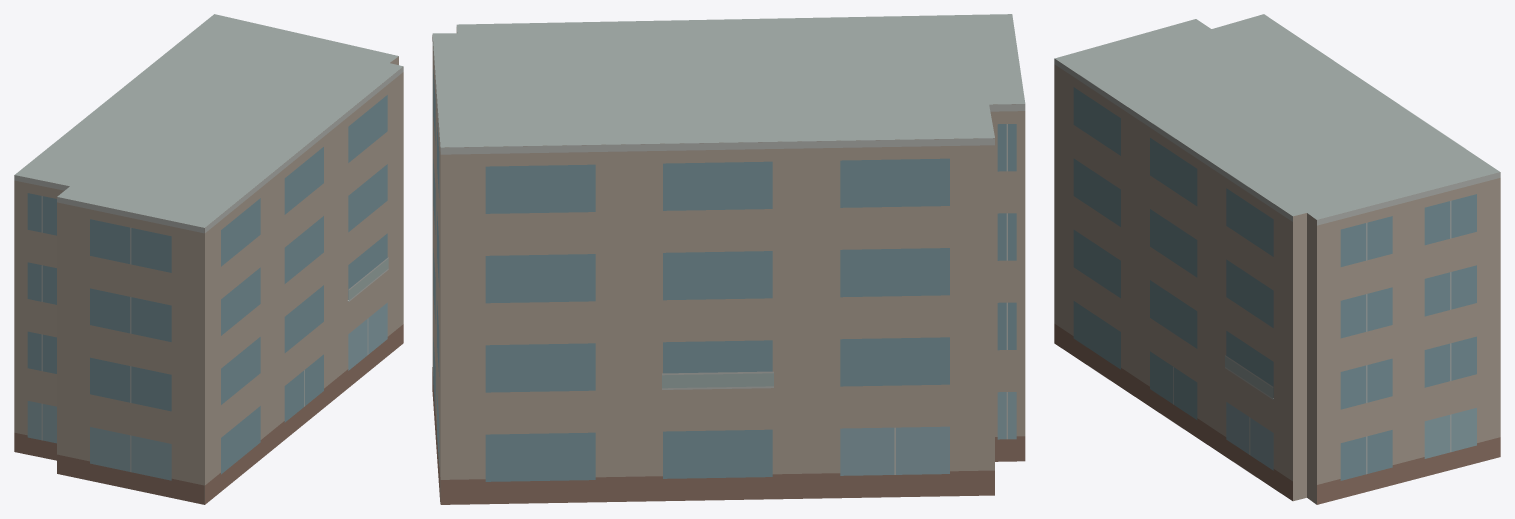
File: survey-upis-32667578.glb
3 renders of one model, left to right at view 1: azimuth 30°, elevation 25°; view 2: azimuth 150°, elevation 25°; view 3: azimuth 270°, elevation 25°, orthographic. The views are drawn at different scales.
Parts seen in each view (by area): view 1: survey-upis-32667578.tmp; view 2: survey-upis-32667578.tmp; view 3: survey-upis-32667578.tmp.
Part boxes in pixels (x1,y1,x2,y2): survey-upis-32667578.tmp: [14, 14, 403, 504]; survey-upis-32667578.tmp: [432, 14, 1025, 504]; survey-upis-32667578.tmp: [1054, 14, 1500, 504].
Size of the model in its own units: 18.92 by 12.2 by 17.32.
